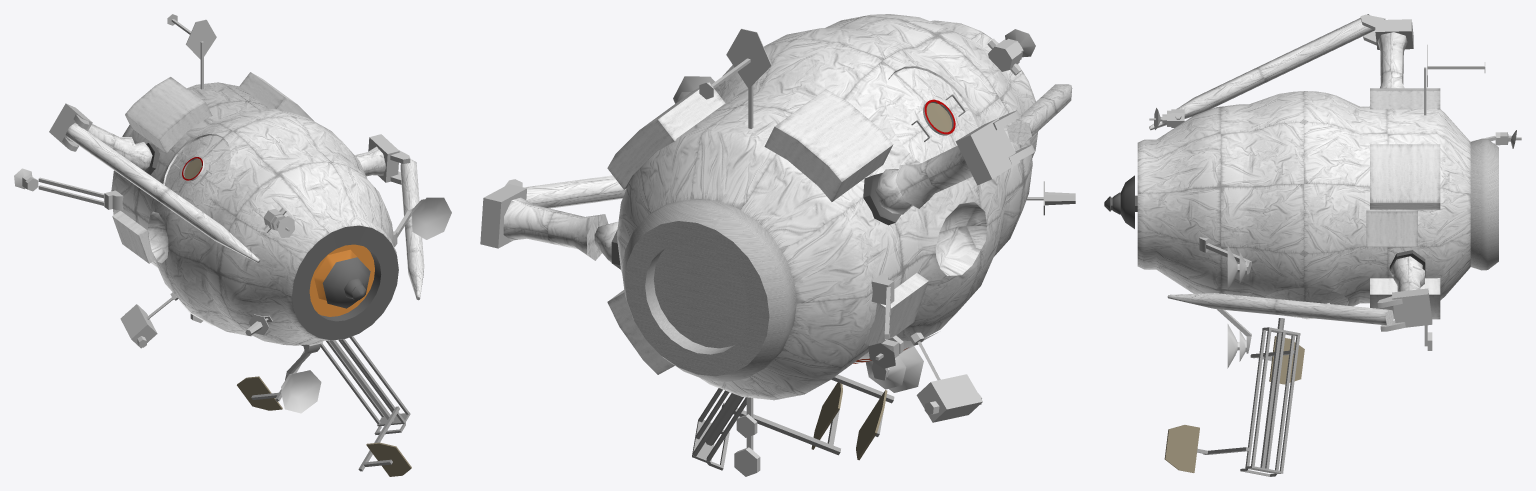
The model's file is PIRS.FBX.
3 views of the same model, side by side, from view 1: azimuth 30°, elevation 25°; view 2: azimuth 150°, elevation 25°; view 3: azimuth 270°, elevation 25° (orthographic). The views are drawn at different scales.
Parts seen in each view (by area): view 1: pirs; view 2: pirs; view 3: pirs.
Part boxes in pixels (x1,y1,x2,y2): pirs: (14,14,451,476); pirs: (480,14,1075,476); pirs: (1104,14,1521,476).
Size of the model in its own units: 4.46 by 4.62 by 4.47.
Materials: 11 (4 with a texture image).
